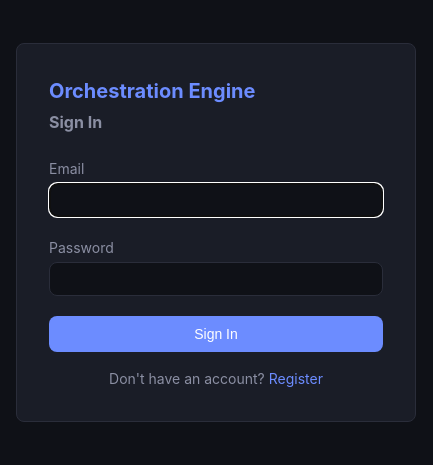
it: Login › failed login shows error message
The width and height of the screenshot is (433, 465).
Type "test@test.com" into the field labelled "Email" at coordinates (216, 200), box x1=49 y1=182 x2=383 y2=216
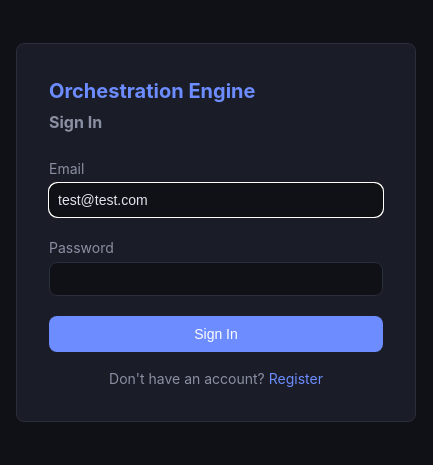
Type "wrong" into the password field labelled "Password" at coordinates (216, 278), box x1=49 y1=262 x2=383 y2=296
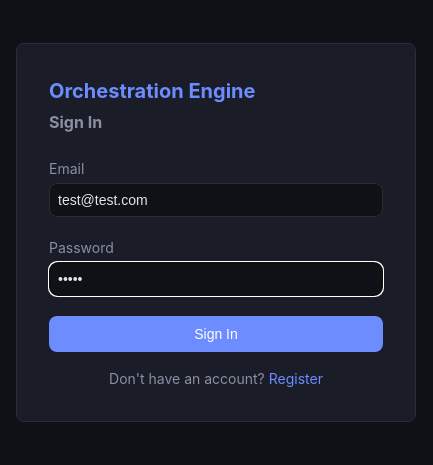
Click the button "Sign In" at coordinates (216, 334), box x1=49 y1=316 x2=383 y2=352
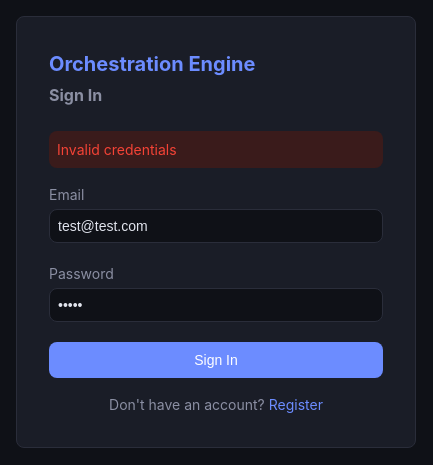
Expected: the text "Invalid credentials" is shown, x1=49 y1=131 x2=383 y2=168
